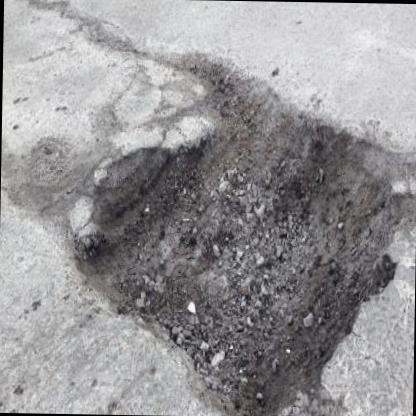pothole: (68, 53, 404, 416)
